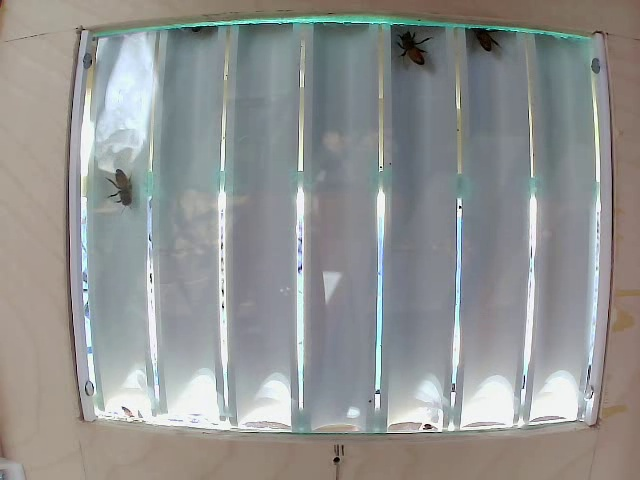bee: (101, 168, 148, 221), (387, 37, 425, 76)
